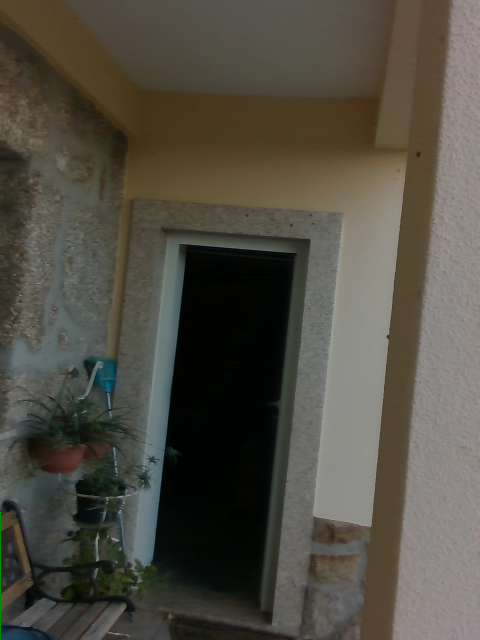open: (130, 229, 309, 618)
